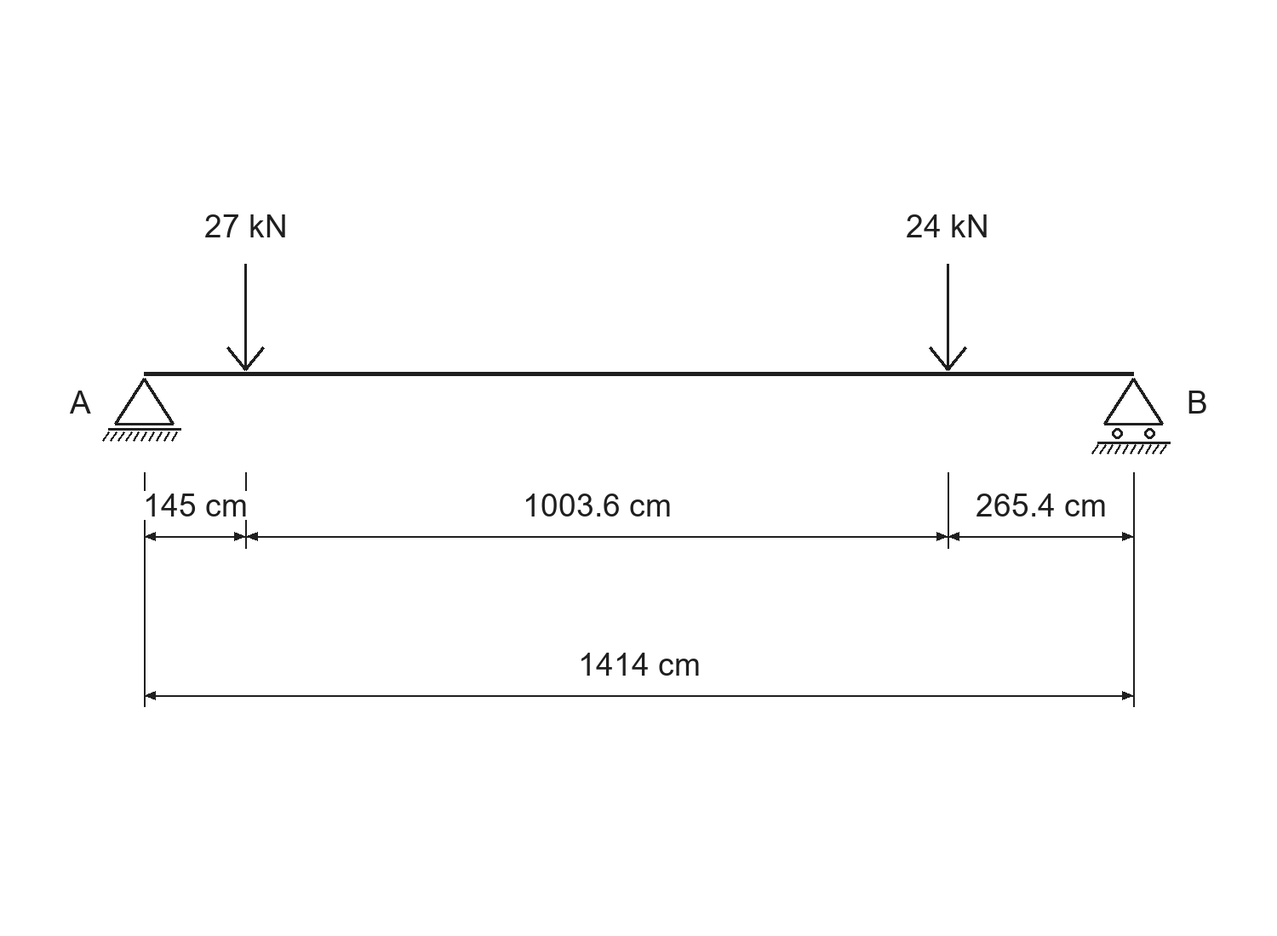pin_support: (102, 378, 181, 442)
point_load: (226, 264, 265, 371), (929, 264, 967, 371)
roller_support: (1091, 378, 1171, 454)
